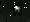person: (14, 5, 23, 17)
